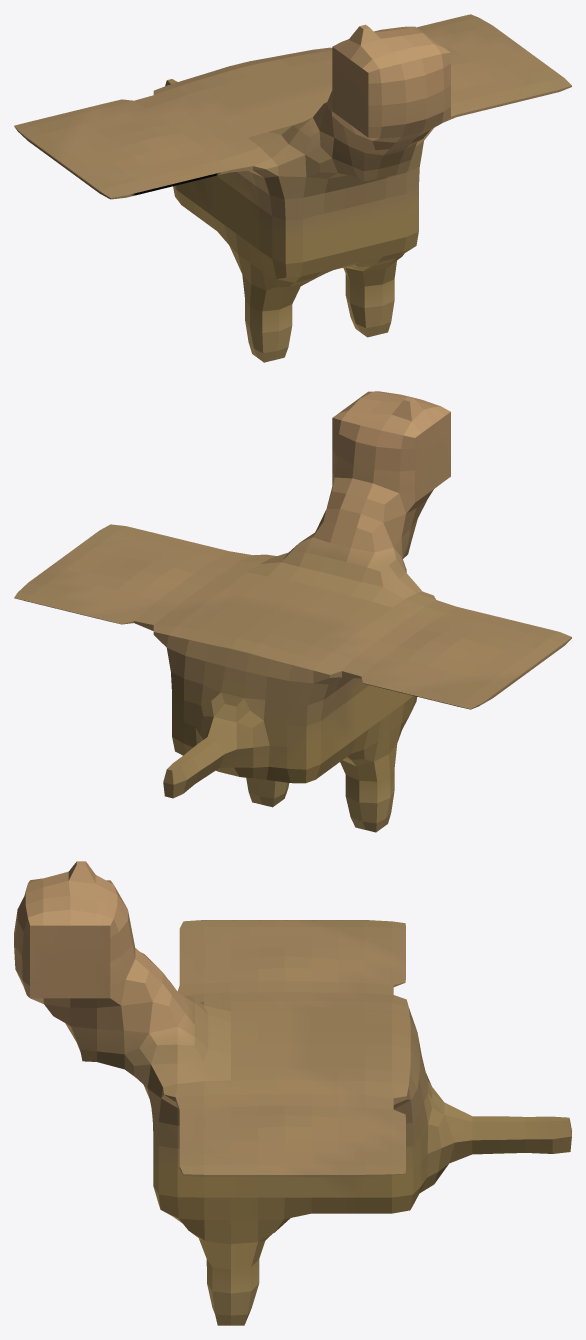
The model's file is iceDragon.glb.
The picture shows the model from 3 angles, top to bottom: view 1: azimuth 30°, elevation 25°; view 2: azimuth 150°, elevation 25°; view 3: azimuth 270°, elevation 25°; orthographic projection. The views are drawn at different scales.
Visible parts, largest first — view 1: geometry_0; view 2: geometry_0; view 3: geometry_0.
Part boxes in pixels (x1=…): geometry_0: x1=14, y1=14, x2=571, y2=362; geometry_0: x1=14, y1=391, x2=571, y2=832; geometry_0: x1=14, y1=861, x2=571, y2=1325.
Size of the model in its own units: 1.25 by 0.9519 by 1.16.
1 material, 1 textured.
